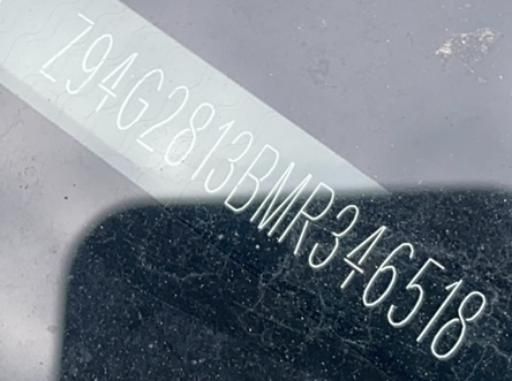letter: (250, 161, 312, 234), (279, 181, 337, 254), (387, 258, 445, 329), (306, 201, 364, 270), (432, 287, 488, 357), (38, 12, 94, 82), (224, 144, 280, 213), (136, 84, 190, 152), (359, 238, 413, 306), (61, 31, 117, 96), (337, 223, 391, 289), (414, 276, 468, 342), (92, 47, 144, 115), (204, 127, 256, 192), (164, 101, 214, 167), (114, 66, 166, 129), (186, 119, 236, 182)
